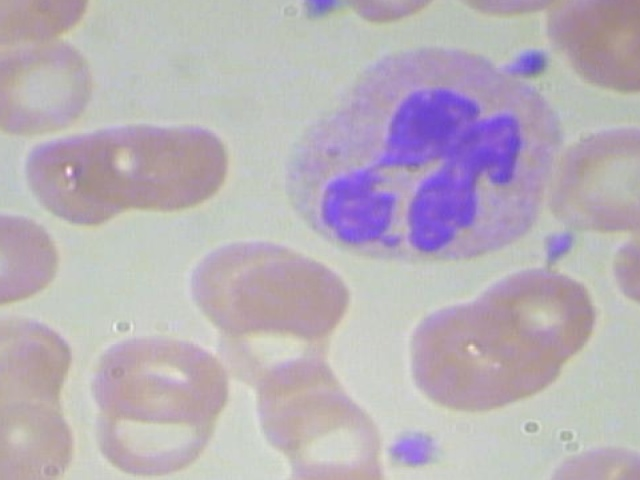Platelets: (381, 427, 442, 472), (499, 43, 561, 82), (535, 227, 589, 267), (293, 0, 346, 22)
RBC: (84, 322, 238, 425), (472, 264, 607, 365), (107, 122, 243, 216), (84, 388, 221, 480), (209, 254, 350, 341), (0, 35, 98, 135), (552, 125, 640, 226), (556, 0, 640, 94), (0, 207, 63, 307)
WBC: (251, 39, 569, 265)
